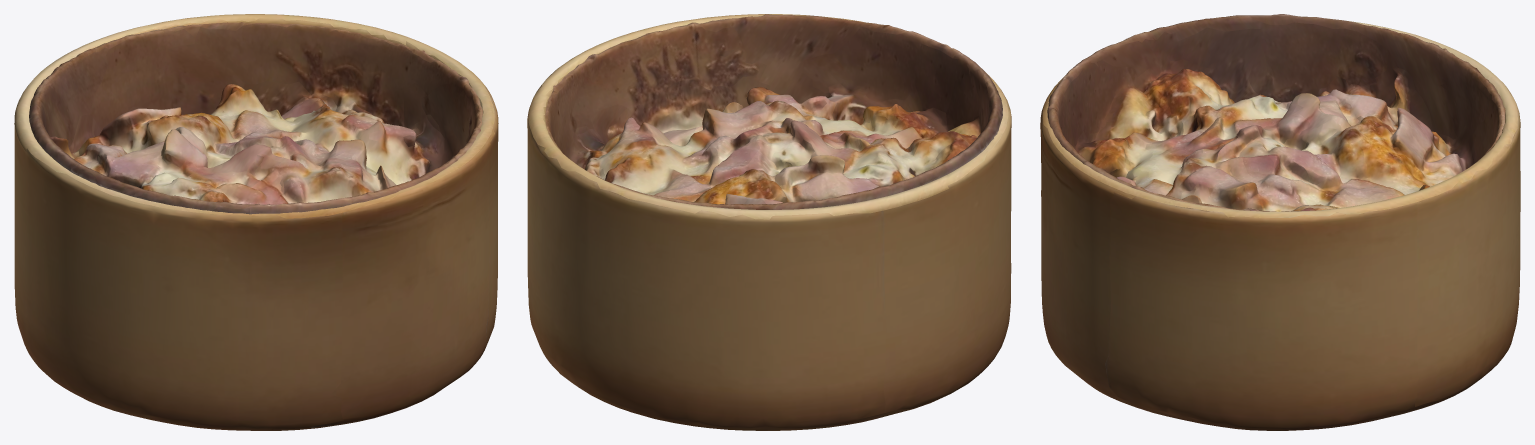
Rendered from bakan.bowl.sefid.glb.
3 views of the same model, side by side, from view 1: azimuth 30°, elevation 25°; view 2: azimuth 150°, elevation 25°; view 3: azimuth 270°, elevation 25° (orthographic).
Visible parts, largest first — view 1: /Root/Scenes/Scene/Object_49/Object_325/Object_326/Submesh_0, /Root/Scenes/Scene/Object_49/Object_50/Submesh_0; view 2: /Root/Scenes/Scene/Object_49/Object_325/Object_326/Submesh_0, /Root/Scenes/Scene/Object_49/Object_50/Submesh_0; view 3: /Root/Scenes/Scene/Object_49/Object_325/Object_326/Submesh_0, /Root/Scenes/Scene/Object_49/Object_50/Submesh_0.
Boxes of the visible parts, left/top/right/bottom form: /Root/Scenes/Scene/Object_49/Object_325/Object_326/Submesh_0: left=14, top=14, right=498, bottom=430; /Root/Scenes/Scene/Object_49/Object_50/Submesh_0: left=29, top=22, right=482, bottom=214; /Root/Scenes/Scene/Object_49/Object_325/Object_326/Submesh_0: left=527, top=14, right=1011, bottom=430; /Root/Scenes/Scene/Object_49/Object_50/Submesh_0: left=545, top=14, right=1002, bottom=209; /Root/Scenes/Scene/Object_49/Object_325/Object_326/Submesh_0: left=1040, top=18, right=1520, bottom=430; /Root/Scenes/Scene/Object_49/Object_50/Submesh_0: left=1047, top=14, right=1505, bottom=211.
Size of the model in its own units: 0.1433 by 0.0767 by 0.1435.
2 materials, 2 textured.
